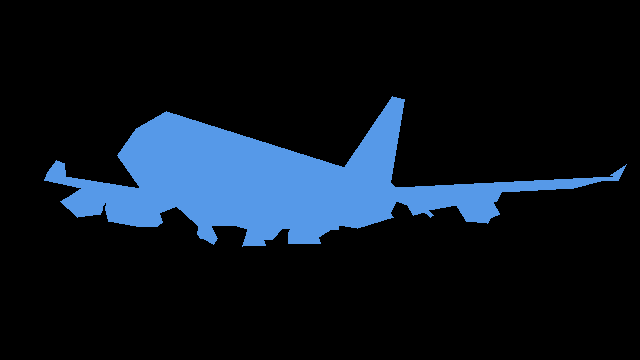Airplane: (44, 96, 626, 246)
